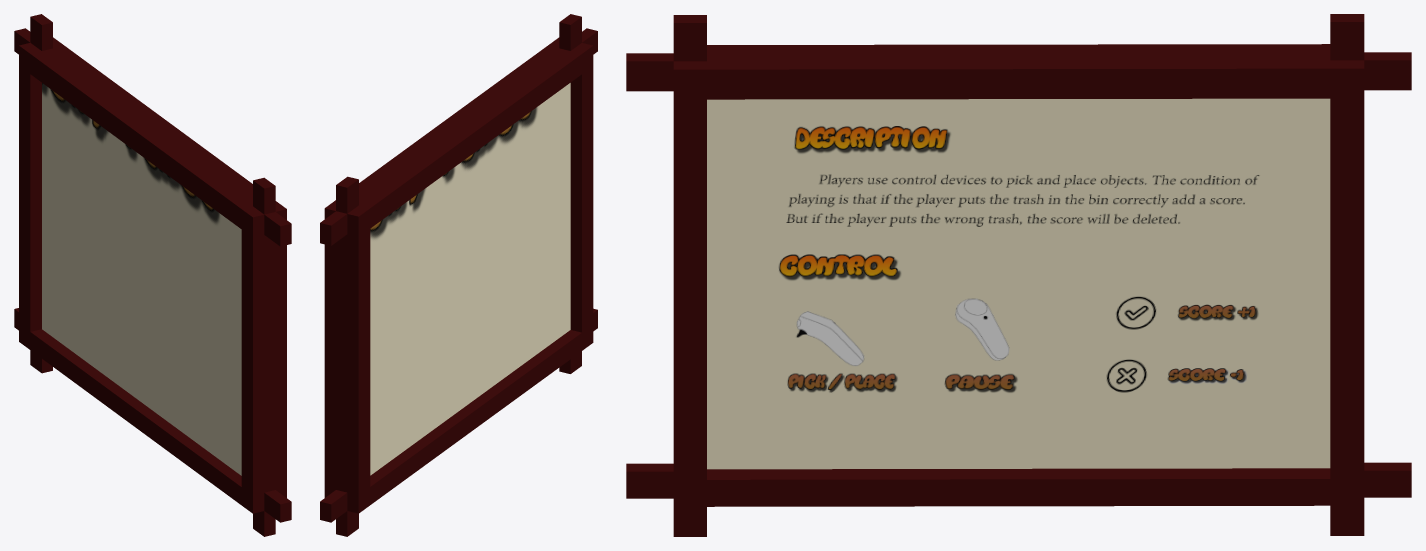
File: howto_info2.fbx
3 views of the same model, side by side, from view 1: azimuth 30°, elevation 25°; view 2: azimuth 150°, elevation 25°; view 3: azimuth 270°, elevation 25° (orthographic). The views are drawn at different scales.
Parts seen in each view (by area): view 1: sign_info2; view 2: sign_info2; view 3: sign_info2.
Boxes of the visible parts, bbox=[...] form: sign_info2: bbox=[14, 14, 291, 536]; sign_info2: bbox=[320, 14, 597, 536]; sign_info2: bbox=[626, 14, 1411, 536].
Bounding box in the file's own units: 0.7015 × 6.86 × 9.49.
2 materials, 1 textured.
